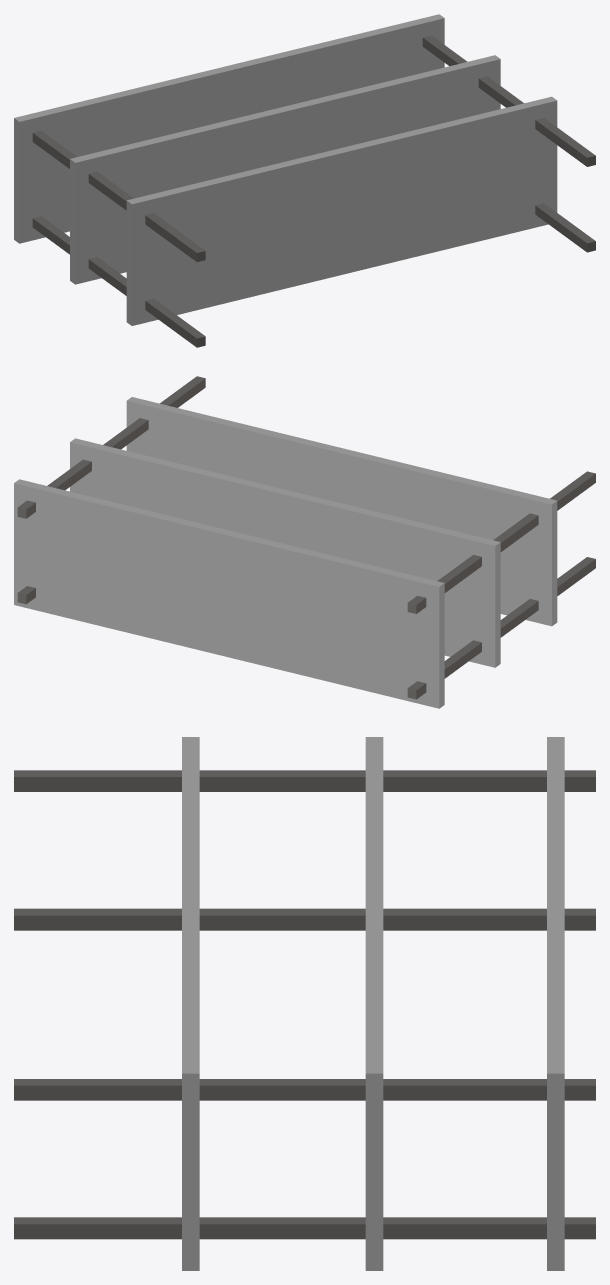
The model's file is Shelf2.glb.
3 views of the same model, one above another, from view 1: azimuth 30°, elevation 25°; view 2: azimuth 150°, elevation 25°; view 3: azimuth 270°, elevation 25° (orthographic). The views are drawn at different scales.
Parts seen in each view (by area): view 1: SO_Shelf_02; view 2: SO_Shelf_02; view 3: SO_Shelf_02.
Part boxes in pixels (x1,y1,x2,y2): SO_Shelf_02: [14, 14, 595, 347]; SO_Shelf_02: [14, 376, 595, 708]; SO_Shelf_02: [14, 737, 595, 1270].
Size of the model in its own units: 5.07 by 1.39 by 3.7.
Materials: 1 (1 with a texture image).
